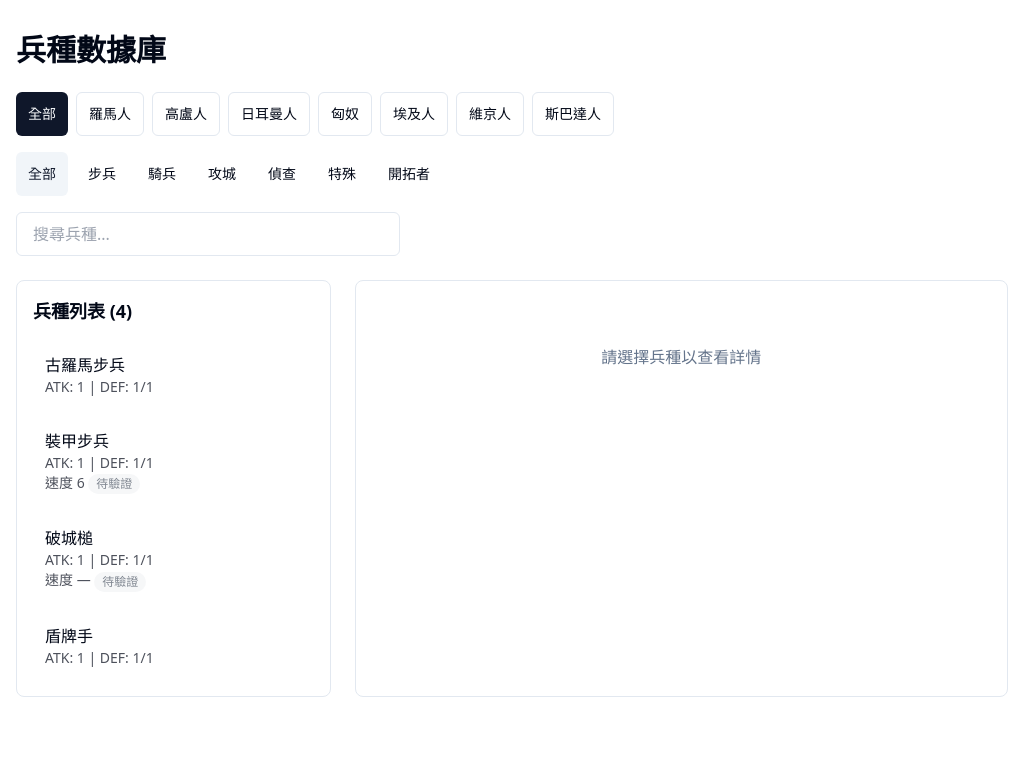
Test case: TroopsPage speed 待驗證 chips (P0-15) › detail, speed null: shows — with chip and no official source line
Click the text "破城槌" at x=69, y=538, box [45,527,93,549]
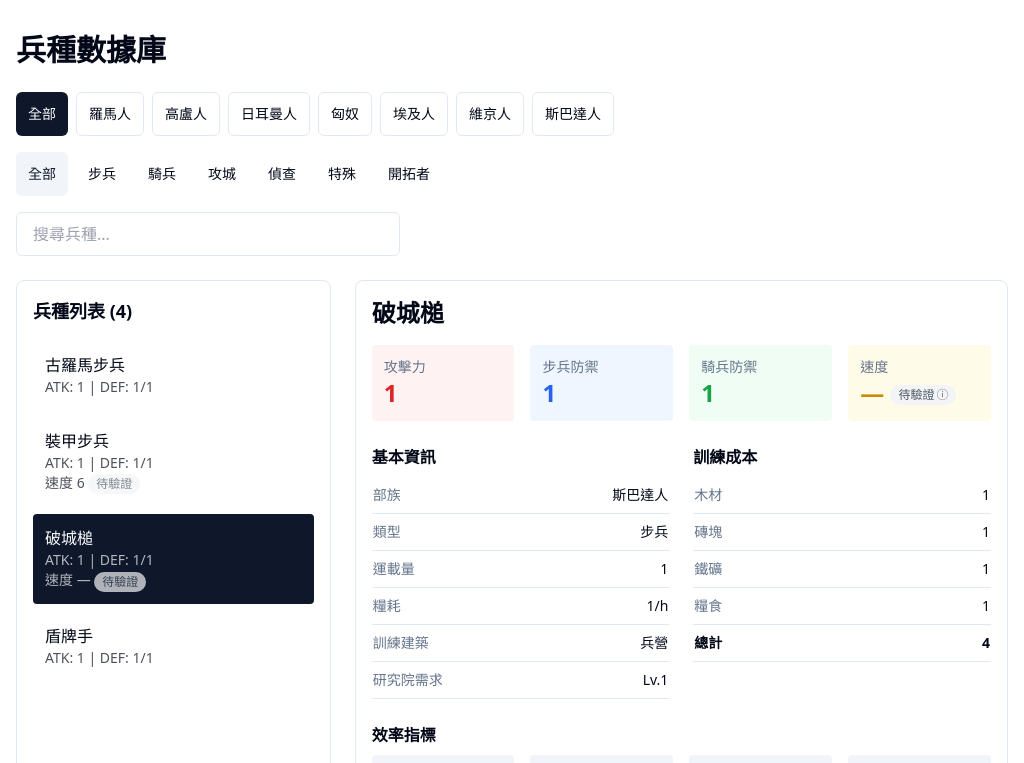
Check: the element with test id "troop-speed" shows "—", box [860,376,884,409]
Check: the number of buttons with test id "pending-verify-chip" is 1, box [890,386,956,406]
